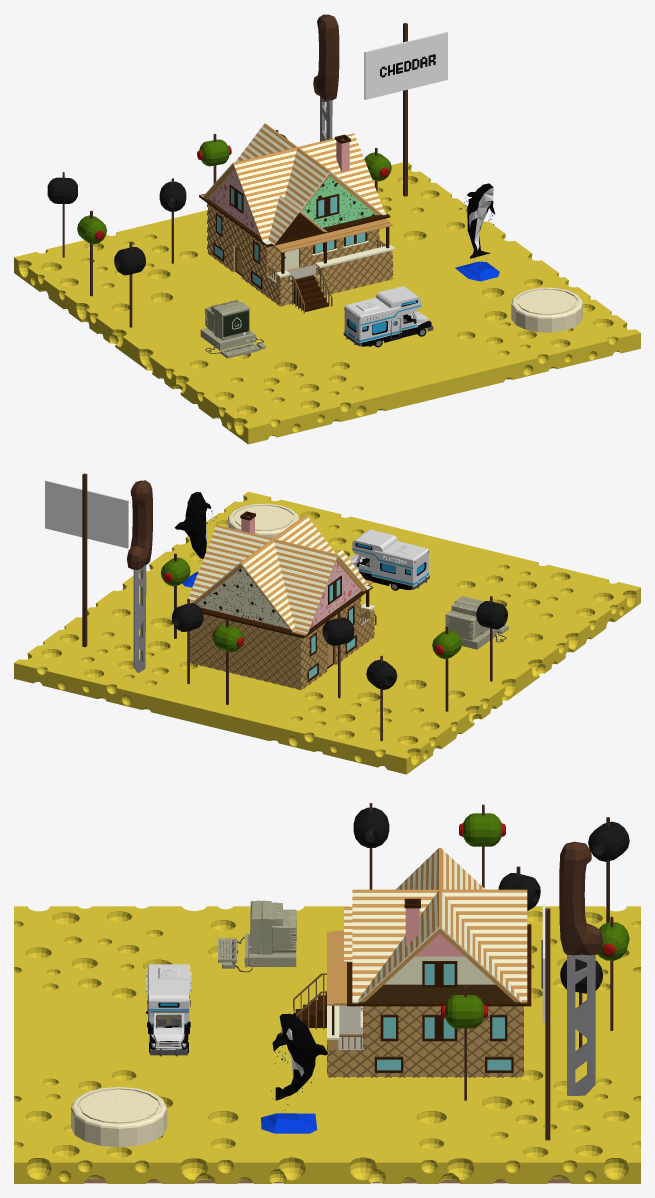
The picture shows the model from 3 angles, top to bottom: view 1: azimuth 30°, elevation 25°; view 2: azimuth 150°, elevation 25°; view 3: azimuth 270°, elevation 25°; orthographic projection. The views are drawn at different scales.
Visible parts, largest first — view 1: Cube.022, Cube.1102, Cube.023, VEHICLES_CAMPER, Cylinder.016, OBJRANDOM_RETRO_PC, Cube.024, ANIMAL_ORCA, Sphere.017, Sphere.016, Sphere.020, Sphere.018 (+2 smaller); view 2: Cube.022, Cube.1102, Cube.023, VEHICLES_CAMPER, Cube.024, OBJRANDOM_RETRO_PC, Cylinder.016, ANIMAL_ORCA, Sphere.017, Sphere.020, Sphere.021, Sphere.016 (+3 smaller); view 3: Cube.022, Cube.1102, Cube.024, Cylinder.016, VEHICLES_CAMPER, OBJRANDOM_RETRO_PC, ANIMAL_ORCA, Cube.023, Sphere.019, Sphere.016, Sphere.018, Sphere.017 (+4 smaller).
Part boxes in pixels (bbox=[...]): Cube.022: bbox=[14, 162, 640, 444]; Cube.1102: bbox=[199, 123, 395, 313]; Cube.023: bbox=[364, 23, 447, 196]; VEHICLES_CAMPER: bbox=[343, 286, 433, 347]; Cylinder.016: bbox=[511, 287, 582, 332]; OBJRANDOM_RETRO_PC: bbox=[200, 300, 265, 358]; Cube.024: bbox=[313, 14, 339, 141]; ANIMAL_ORCA: bbox=[455, 183, 499, 281]; Sphere.017: bbox=[114, 242, 145, 327]; Sphere.016: bbox=[47, 172, 77, 257]; Sphere.020: bbox=[159, 178, 186, 263]; Sphere.018: bbox=[77, 210, 106, 296]; Cube.022: bbox=[14, 491, 640, 774]; Cube.1102: bbox=[184, 511, 376, 690]; Cube.023: bbox=[45, 473, 128, 647]; VEHICLES_CAMPER: bbox=[349, 529, 429, 590]; Cube.024: bbox=[127, 480, 152, 672]; OBJRANDOM_RETRO_PC: bbox=[445, 596, 508, 649]; Cylinder.016: bbox=[228, 503, 298, 538]; ANIMAL_ORCA: bbox=[174, 492, 216, 587]; Sphere.017: bbox=[476, 596, 507, 681]; Sphere.020: bbox=[322, 612, 354, 698]; Sphere.021: bbox=[171, 598, 203, 683]; Sphere.016: bbox=[366, 655, 397, 741]; Cube.022: bbox=[14, 906, 640, 1183]; Cube.1102: bbox=[293, 848, 531, 1077]; Cube.024: bbox=[559, 841, 602, 1095]; Cylinder.016: bbox=[71, 1086, 167, 1147]; VEHICLES_CAMPER: bbox=[146, 964, 191, 1056]; OBJRANDOM_RETRO_PC: bbox=[218, 900, 296, 972]; ANIMAL_ORCA: bbox=[261, 1012, 327, 1133]; Cube.023: bbox=[541, 904, 550, 1140]; Sphere.019: bbox=[441, 986, 487, 1100]; Sphere.016: bbox=[588, 817, 629, 922]; Sphere.018: bbox=[459, 804, 505, 888]; Sphere.017: bbox=[353, 803, 389, 889].
Size of the model in its own units: 3917 by 1957 by 4000.
Materials: 33 (5 with a texture image).
